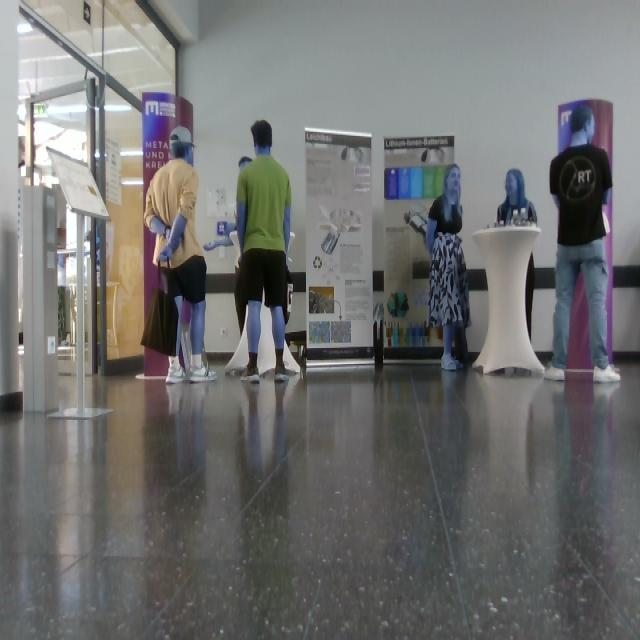banner: (305, 129, 373, 372), (382, 137, 454, 364), (143, 93, 194, 216), (559, 100, 613, 176), (568, 272, 591, 370), (144, 225, 164, 321), (604, 190, 614, 364), (145, 350, 168, 376)
person: (546, 105, 620, 382), (145, 126, 216, 382), (237, 121, 292, 382), (426, 165, 470, 372), (497, 170, 537, 225), (526, 253, 536, 340), (239, 157, 252, 170)
table: (473, 226, 544, 374)
tiled floor: (1, 366, 640, 640)
